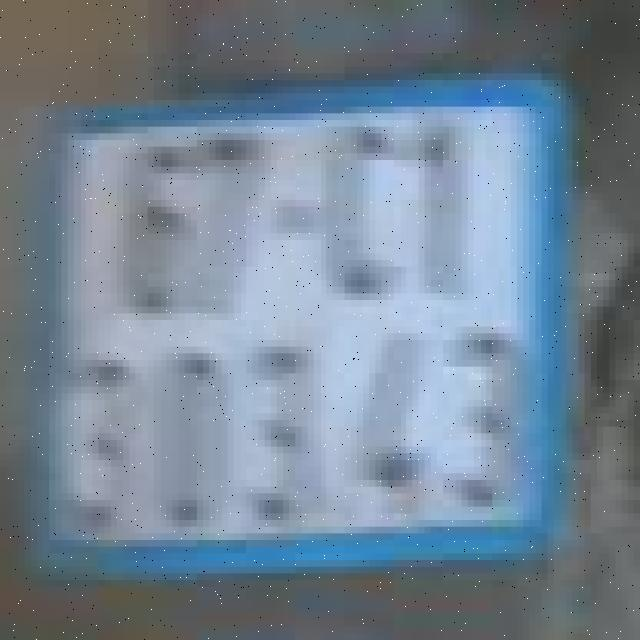0: (151, 346, 237, 526)
1: (412, 120, 468, 300)
3: (443, 323, 523, 510), (243, 337, 323, 523), (67, 350, 142, 530)
4: (348, 330, 434, 517)
6: (114, 136, 194, 316)
7: (194, 133, 274, 320)
C: (320, 123, 406, 297)
